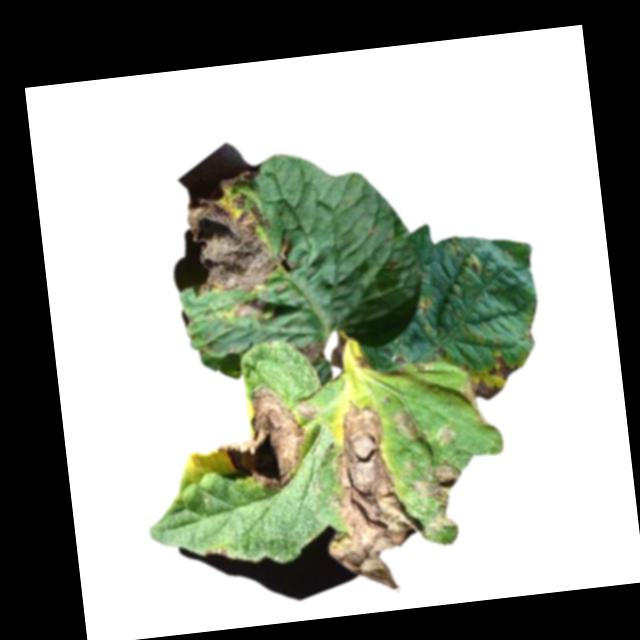Early_blight: (308, 396, 430, 598), (182, 164, 283, 297), (213, 383, 309, 497), (407, 458, 465, 533), (468, 352, 523, 400), (392, 406, 420, 442), (228, 297, 263, 320), (297, 338, 325, 365), (327, 333, 348, 368), (295, 400, 318, 419), (437, 423, 454, 441)
